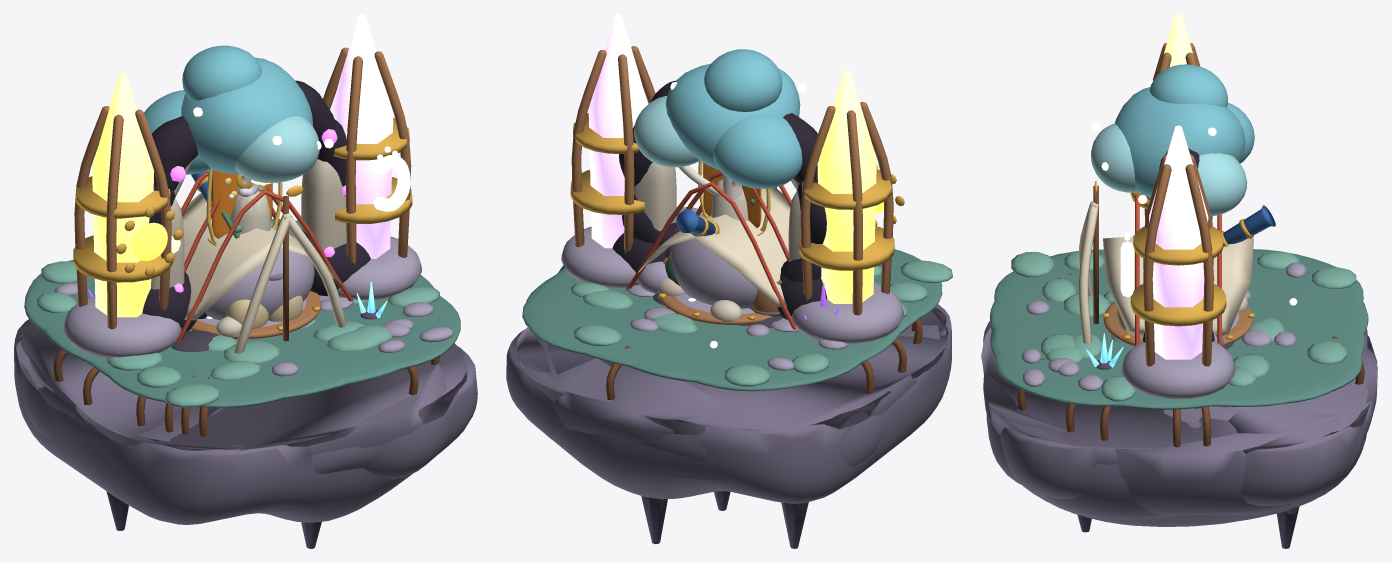
Rendered from escudo_mapa.glb.
3 views of the same model, side by side, from view 1: azimuth 30°, elevation 25°; view 2: azimuth 150°, elevation 25°; view 3: azimuth 270°, elevation 25° (orthographic). The views are drawn at different scales.
Parts seen in each view (by area): view 1: isla borde roca, isla c roca, arbol estelar copa 0, ancla marco -1 0, ancla base -1, ancla cristal -1, ancla aro -1, ancla cristal 1, isla a musgo, isla borde musgo, tienda lona, isla b roca (+28 smaller); view 2: isla borde roca, arbol estelar copa 0, isla c roca, ancla marco -1 0, isla b roca, ancla base -1, ancla cristal -1, isla borde musgo, ancla aro -1, ancla cristal 1, tienda lona, isla a musgo (+19 smaller); view 3: isla borde roca, isla b roca, arbol estelar copa 0, isla borde musgo, isla c roca, ancla cristal 1, isla a roca, isla a musgo, isla c musgo, ancla marco -1 0, arbol estelar copa 1, ancla base -1 (+20 smaller).
Part boxes in pixels (x1,y1,x2,y2): isla borde roca: [14, 319, 477, 524]; isla c roca: [19, 322, 466, 479]; arbol estelar copa 0: [144, 45, 313, 174]; ancla marco -1 0: [74, 47, 411, 329]; ancla base -1: [63, 236, 421, 357]; ancla cristal -1: [92, 72, 153, 317]; ancla aro -1: [73, 117, 412, 282]; ancla cristal 1: [331, 14, 393, 258]; isla a musgo: [24, 219, 460, 407]; isla borde musgo: [44, 220, 451, 406]; tienda lona: [182, 193, 341, 320]; isla b roca: [26, 351, 447, 454]; isla borde roca: [506, 304, 951, 503]; arbol estelar copa 0: [665, 49, 802, 188]; isla c roca: [518, 308, 948, 466]; ancla marco -1 0: [571, 46, 893, 315]; isla b roca: [530, 325, 939, 442]; ancla base -1: [561, 226, 903, 343]; ancla cristal -1: [817, 70, 876, 303]; isla borde musgo: [522, 270, 942, 378]; ancla aro -1: [570, 113, 904, 270]; ancla cristal 1: [588, 14, 647, 248]; tienda lona: [638, 187, 790, 306]; isla a musgo: [526, 249, 942, 391]; isla borde roca: [983, 321, 1368, 526]; isla b roca: [983, 346, 1377, 515]; arbol estelar copa 0: [1115, 64, 1254, 196]; isla borde musgo: [990, 269, 1364, 406]; isla c roca: [981, 327, 1369, 514]; ancla cristal 1: [1149, 125, 1208, 359]; isla a roca: [989, 332, 1377, 519]; isla a musgo: [994, 249, 1363, 406]; isla c musgo: [990, 251, 1368, 409]; ancla marco -1 0: [1143, 43, 1213, 366]; arbol estelar copa 1: [1091, 123, 1247, 216]; ancla base -1: [1121, 236, 1235, 398].
Bounding box in the file's own units: 4.9 × 6.22 × 4.81.
